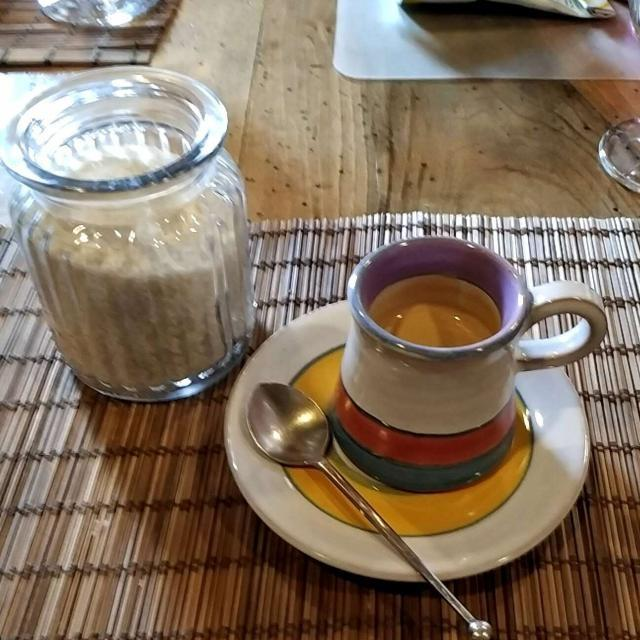coffee: (372, 277, 499, 346)
